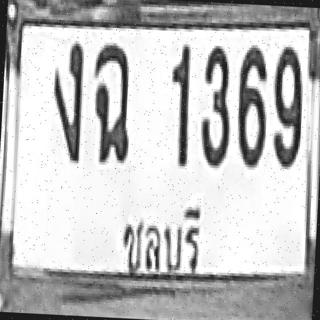A07: (49, 40, 85, 161)
A09: (89, 43, 134, 164)
N01: (167, 41, 192, 166)
N03: (199, 43, 234, 166)
N06: (234, 45, 268, 165)
N09: (269, 44, 305, 167)
P13: (116, 196, 210, 286)
